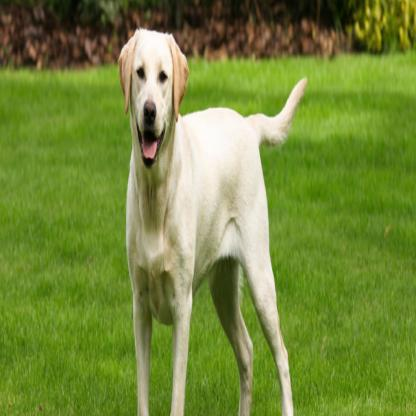dog: (114, 24, 306, 416)
